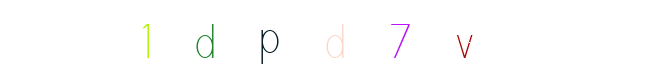1: (107, 0, 187, 80)
7: (361, 0, 441, 80)
D: (199, 0, 279, 80), (290, 0, 370, 80)
P: (235, 0, 315, 80)
V: (424, 0, 504, 80)
